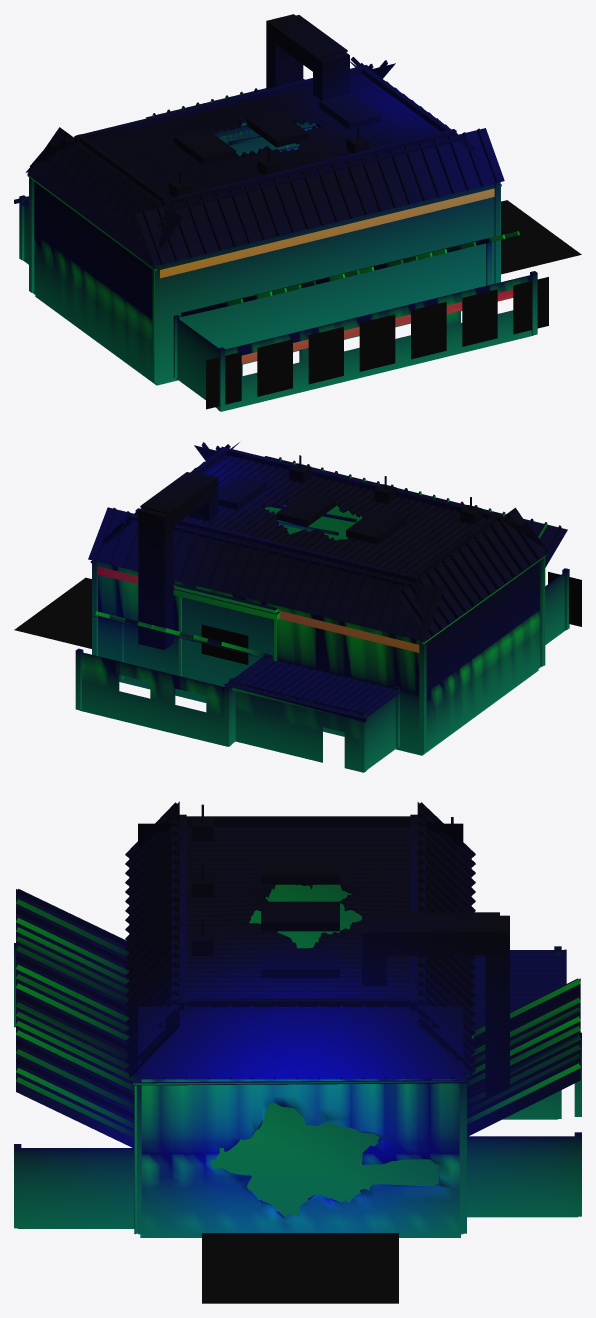
Rendered from vehiclehangar_damaged.glb.
The picture shows the model from 3 angles, top to bottom: view 1: azimuth 30°, elevation 25°; view 2: azimuth 150°, elevation 25°; view 3: azimuth 270°, elevation 25°; orthographic projection. The views are drawn at different scales.
Parts seen in each view (by area): view 1: lod0; view 2: lod0; view 3: lod0.
Part boxes in pixels (left/top/right/bottom): lod0: left=14, top=14, right=581, bottom=411; lod0: left=14, top=442, right=581, bottom=772; lod0: left=14, top=801, right=581, bottom=1303.
Size of what is drawn, in the model's own units: 28.35 by 12 by 23.05.
